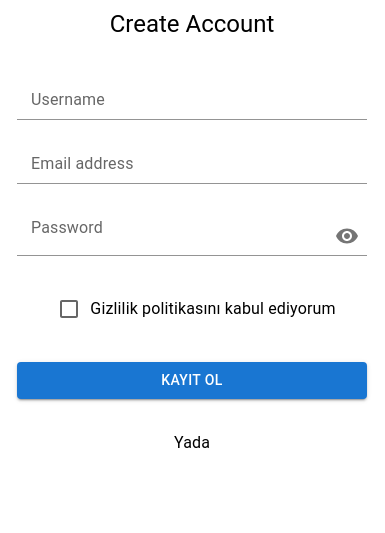
Test: Register Component › validates required fields
What coordinates should you click on to do the following:
click the button "Kayıt Ol"
I would click on:
 (192, 380)
Its box is x1=17 y1=362 x2=367 y2=398.
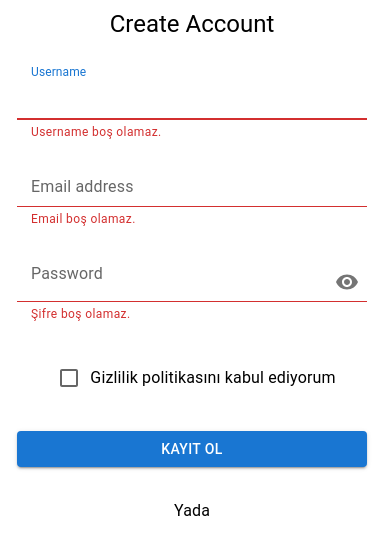
Result: the text "Username boş olamaz." is shown at x1=31 y1=125 x2=162 y2=139
Result: the text "Email boş olamaz." is shown at x1=31 y1=212 x2=136 y2=226
Result: the text "Şifre boş olamaz." is shown at x1=31 y1=307 x2=130 y2=321
